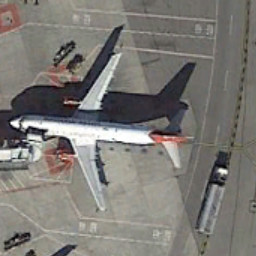Airplane: (6, 49, 197, 215)
